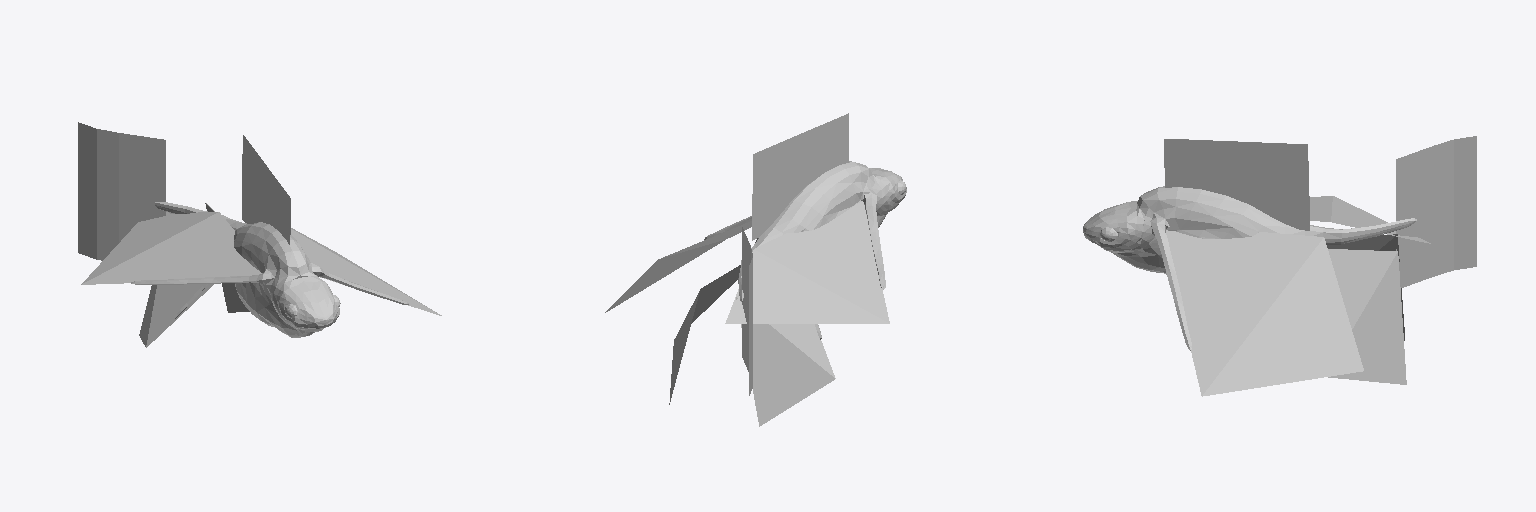
Rendered from fish_000016.obj.
3 renders of one model, left to right at view 1: azimuth 30°, elevation 25°; view 2: azimuth 150°, elevation 25°; view 3: azimuth 270°, elevation 25°, orthographic.
Parts seen in each view (by area): view 1: flyingFish_low_StingrayPBS1_0; view 2: flyingFish_low_StingrayPBS1_0; view 3: flyingFish_low_StingrayPBS1_0.
Boxes of the visible parts, <box> form: flyingFish_low_StingrayPBS1_0: <box>78,122,441,347</box>; flyingFish_low_StingrayPBS1_0: <box>605,113,906,426</box>; flyingFish_low_StingrayPBS1_0: <box>1083,136,1476,396</box>.
Size of the model in its own units: 16.91 by 12.18 by 19.47.